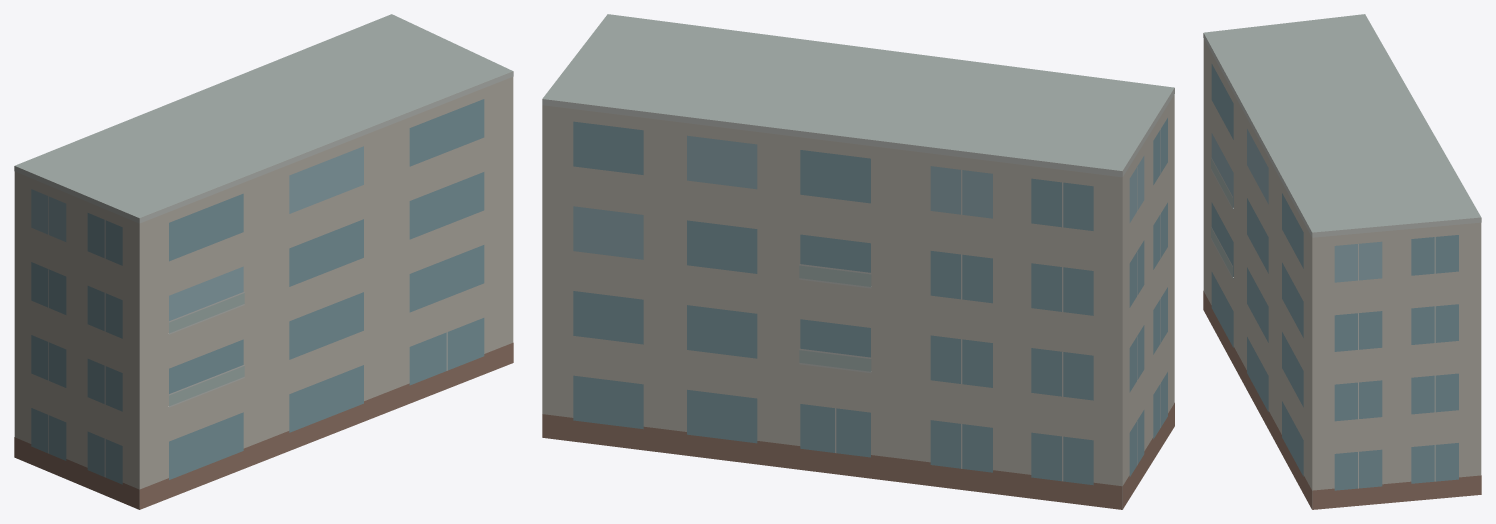
File: survey-upis-32954411.glb
The picture shows the model from 3 angles, left to right: view 1: azimuth 30°, elevation 25°; view 2: azimuth 150°, elevation 25°; view 3: azimuth 270°, elevation 25°; orthographic projection. The views are drawn at different scales.
Parts seen in each view (by area): view 1: survey-upis-32954411.tmp; view 2: survey-upis-32954411.tmp; view 3: survey-upis-32954411.tmp.
Part boxes in pixels (x1,y1,x2,y2): survey-upis-32954411.tmp: (14, 14, 513, 509); survey-upis-32954411.tmp: (542, 14, 1174, 509); survey-upis-32954411.tmp: (1203, 14, 1481, 509).
Bounding box in the file's own units: 22.32 × 13.2 × 12.
